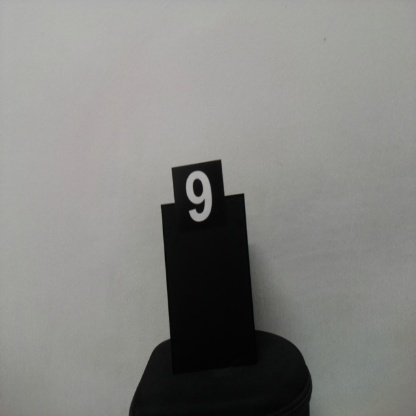id_9: (172, 168, 227, 238)
